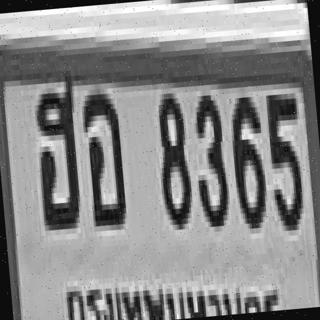A43: (78, 88, 125, 227)
A44: (29, 70, 84, 226)
N03: (188, 89, 227, 222)
N05: (263, 88, 305, 226)
N06: (226, 91, 267, 224)
N08: (153, 87, 192, 226)
